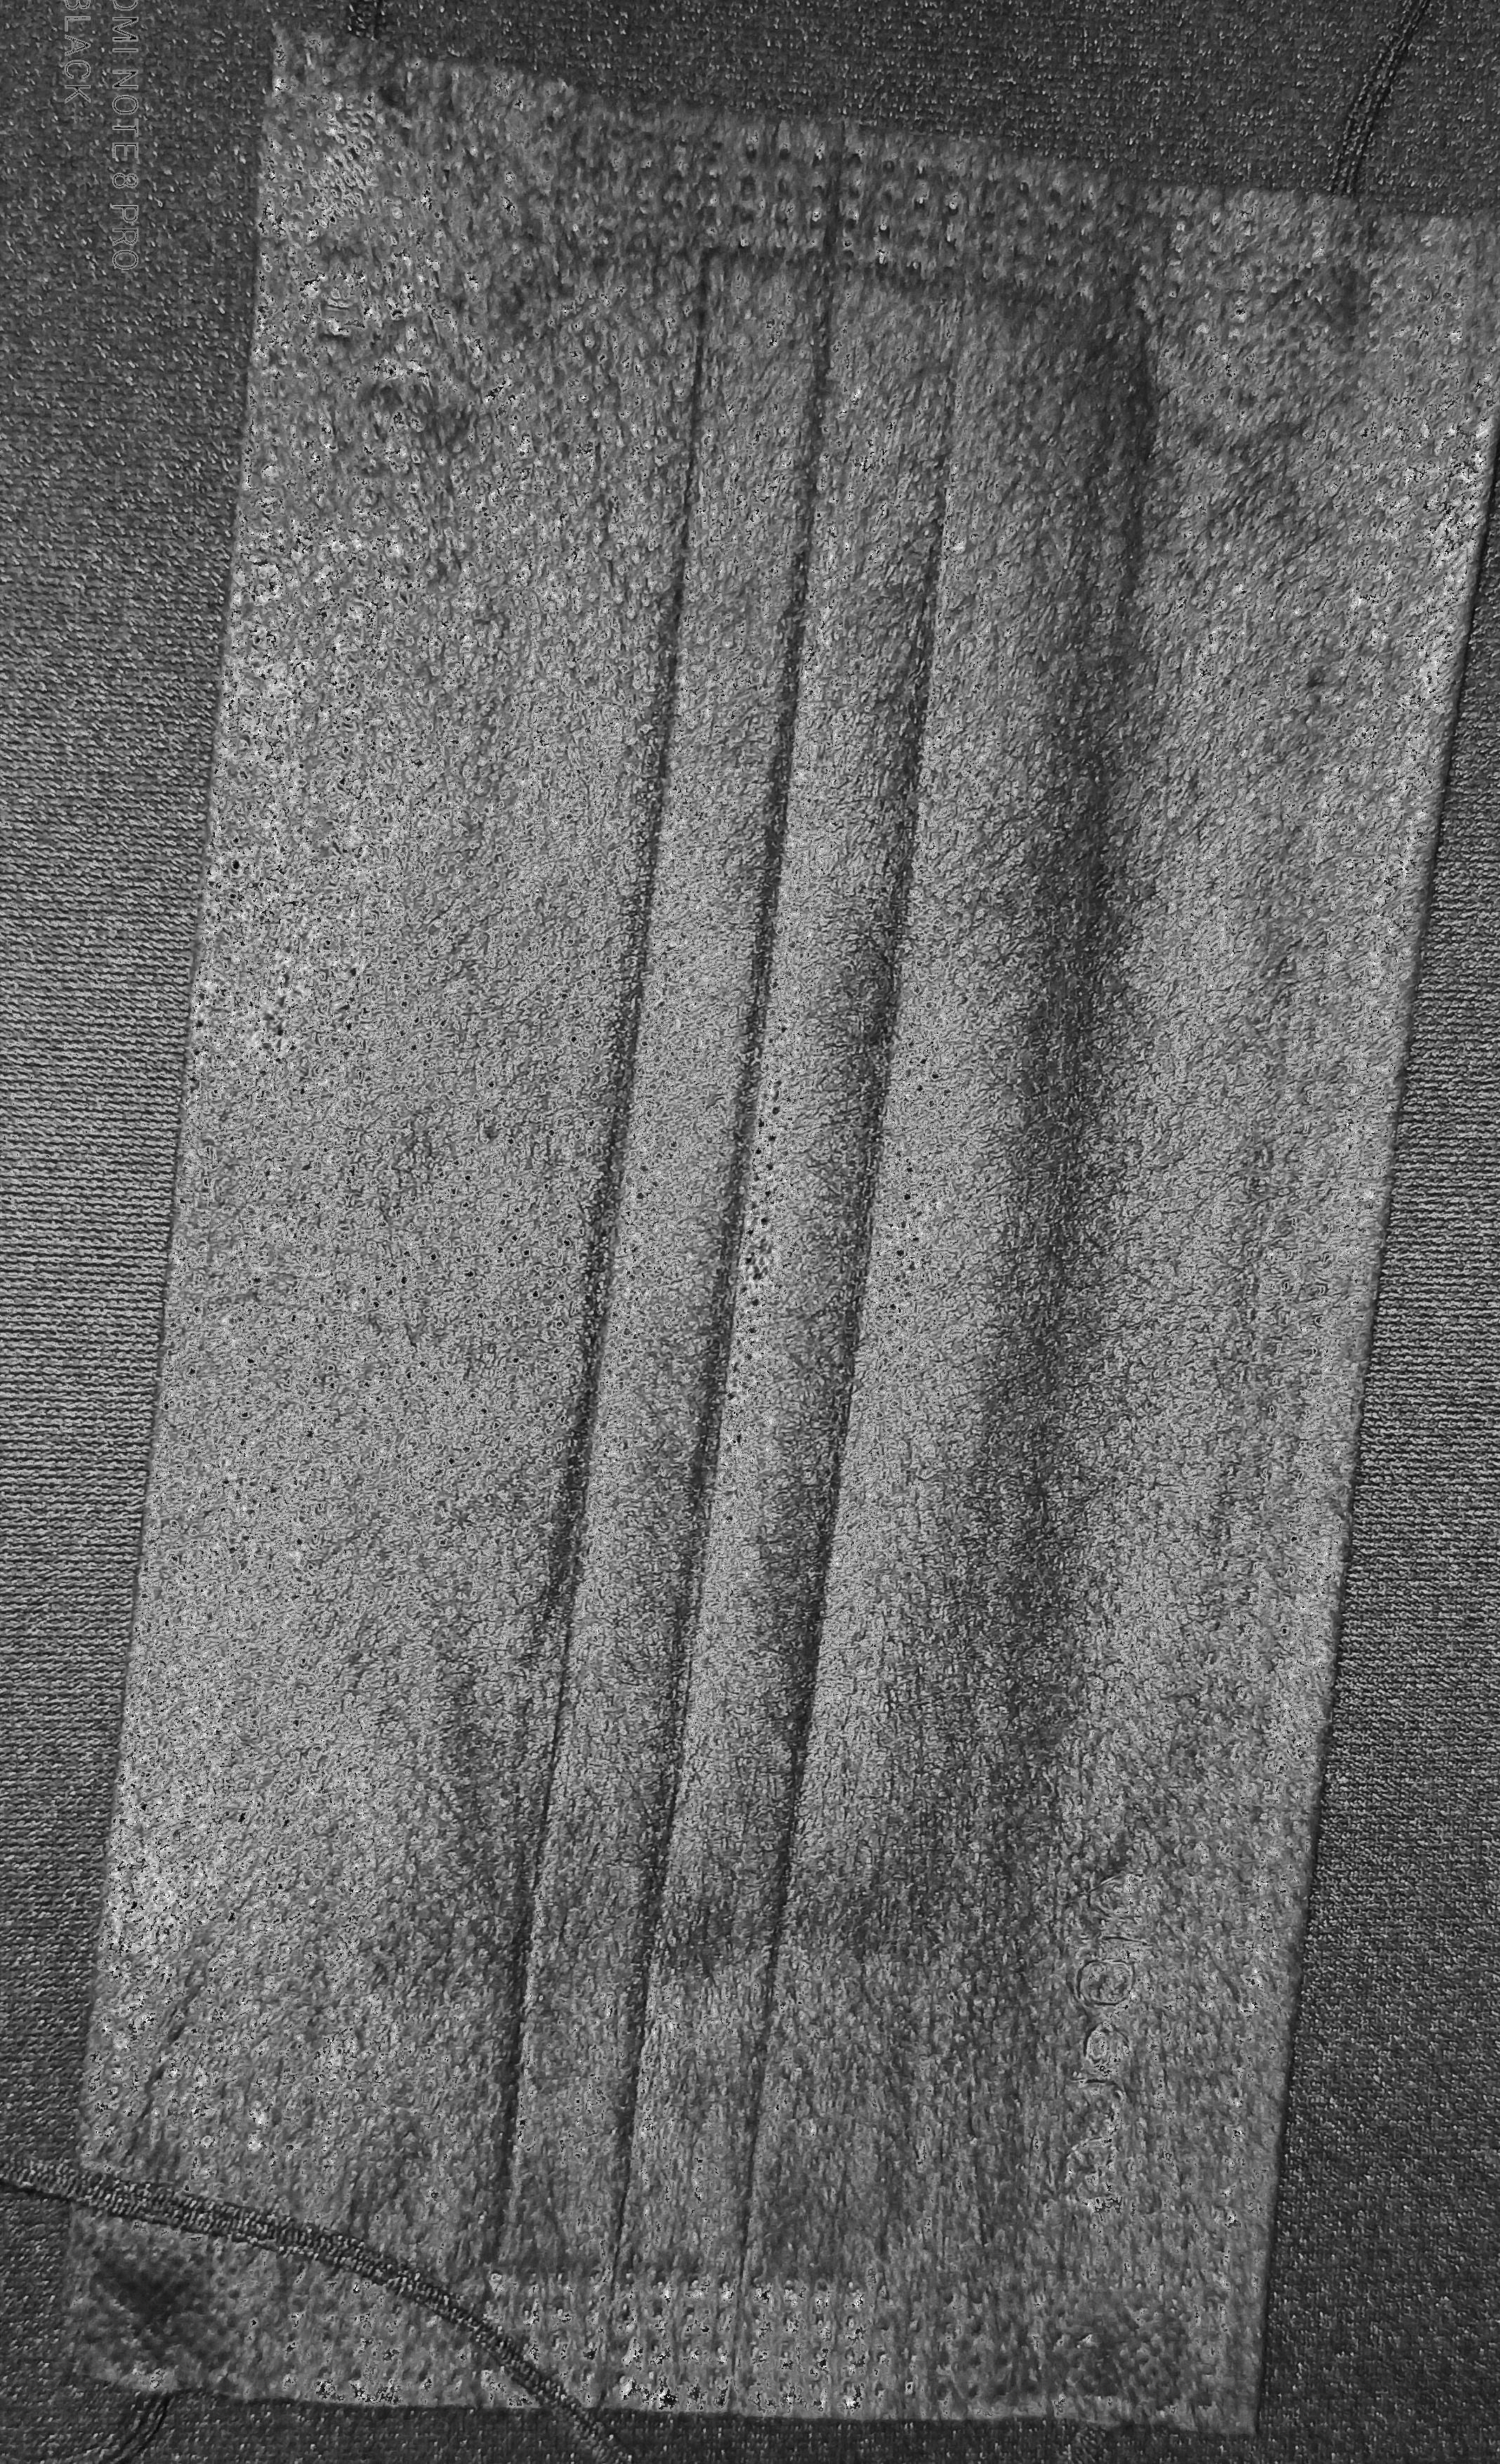Low GSM: (586, 319, 1021, 2244)
